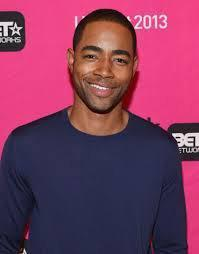Sober: (75, 28, 133, 103)
